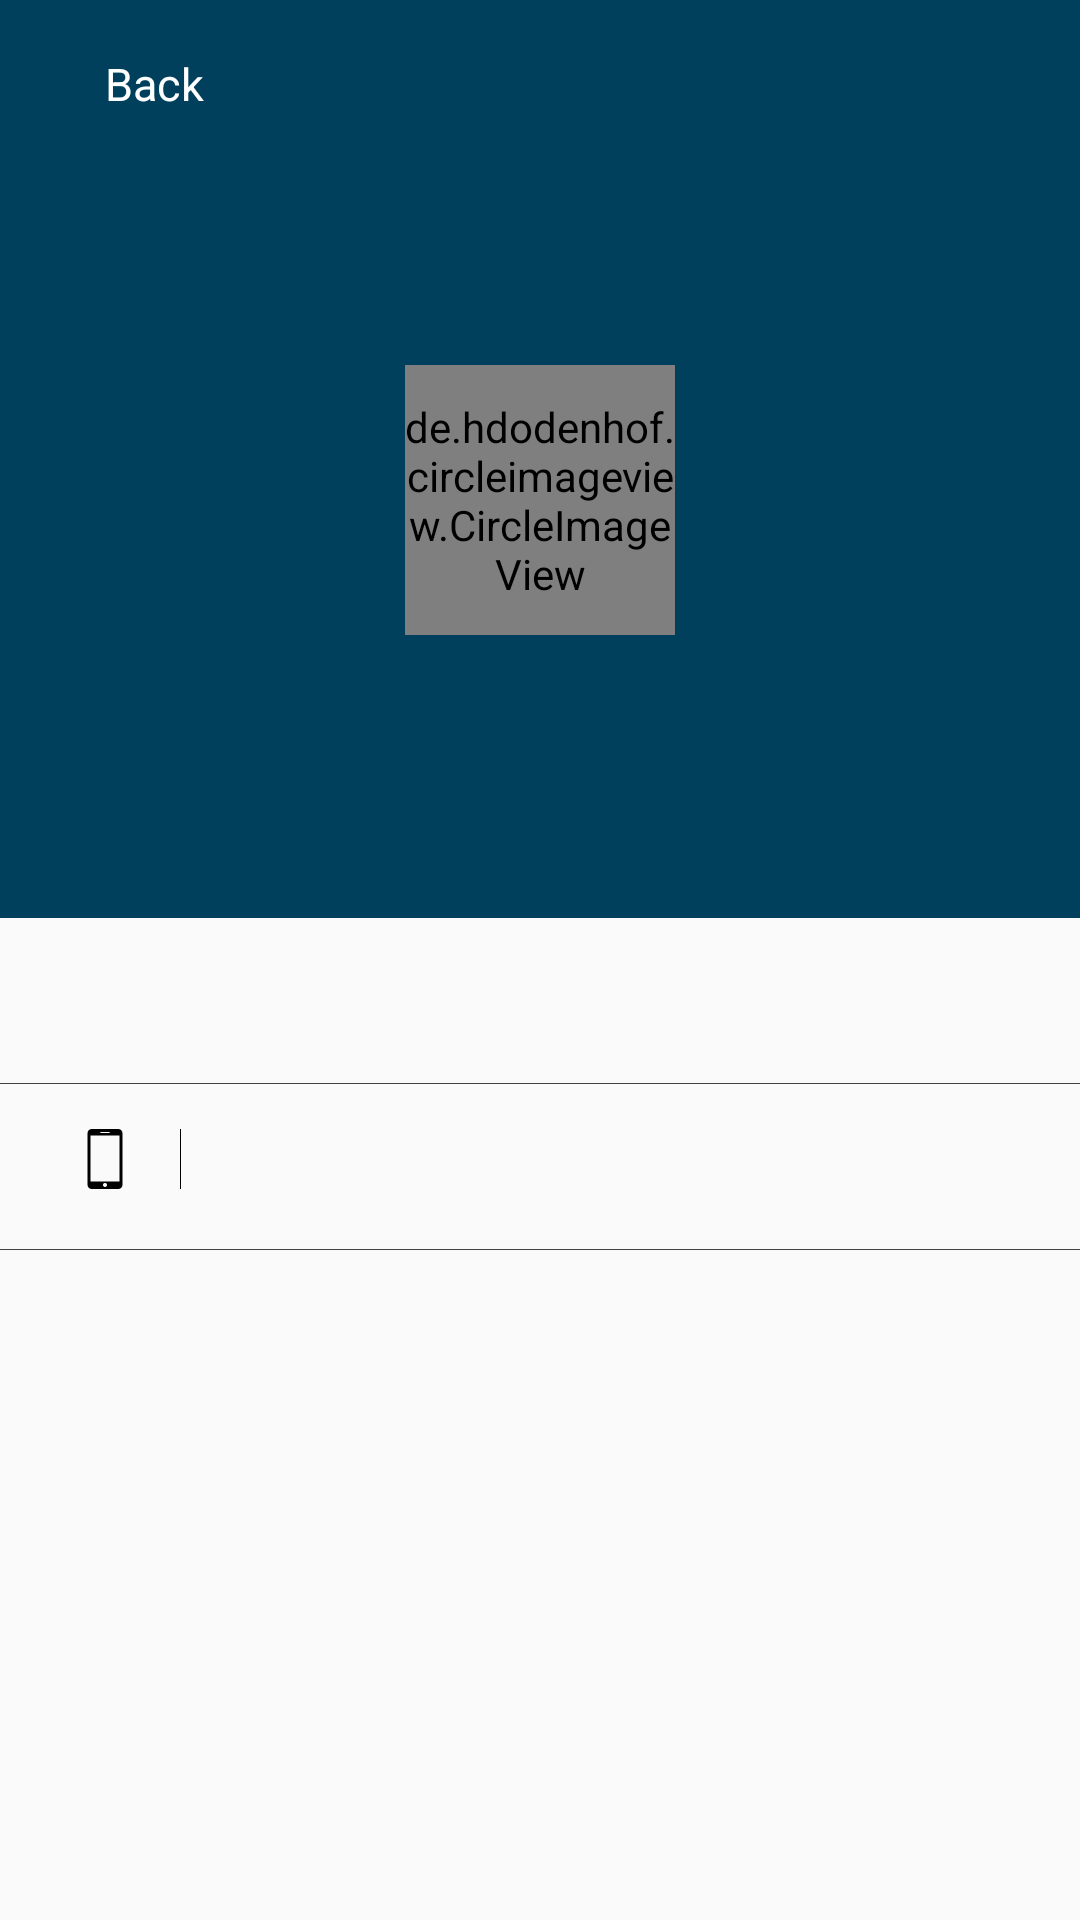

Screen size 1080 × 1920. Icon name, then its center in pixels as [x,y]:
phone: [105,1159]
